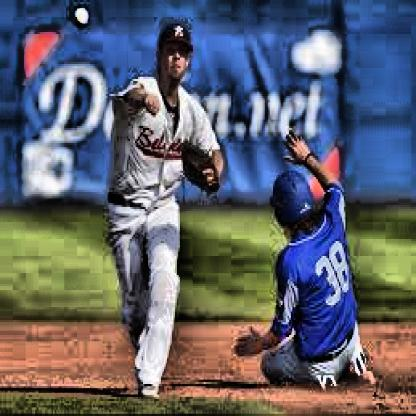baseball: (75, 9, 89, 26)
